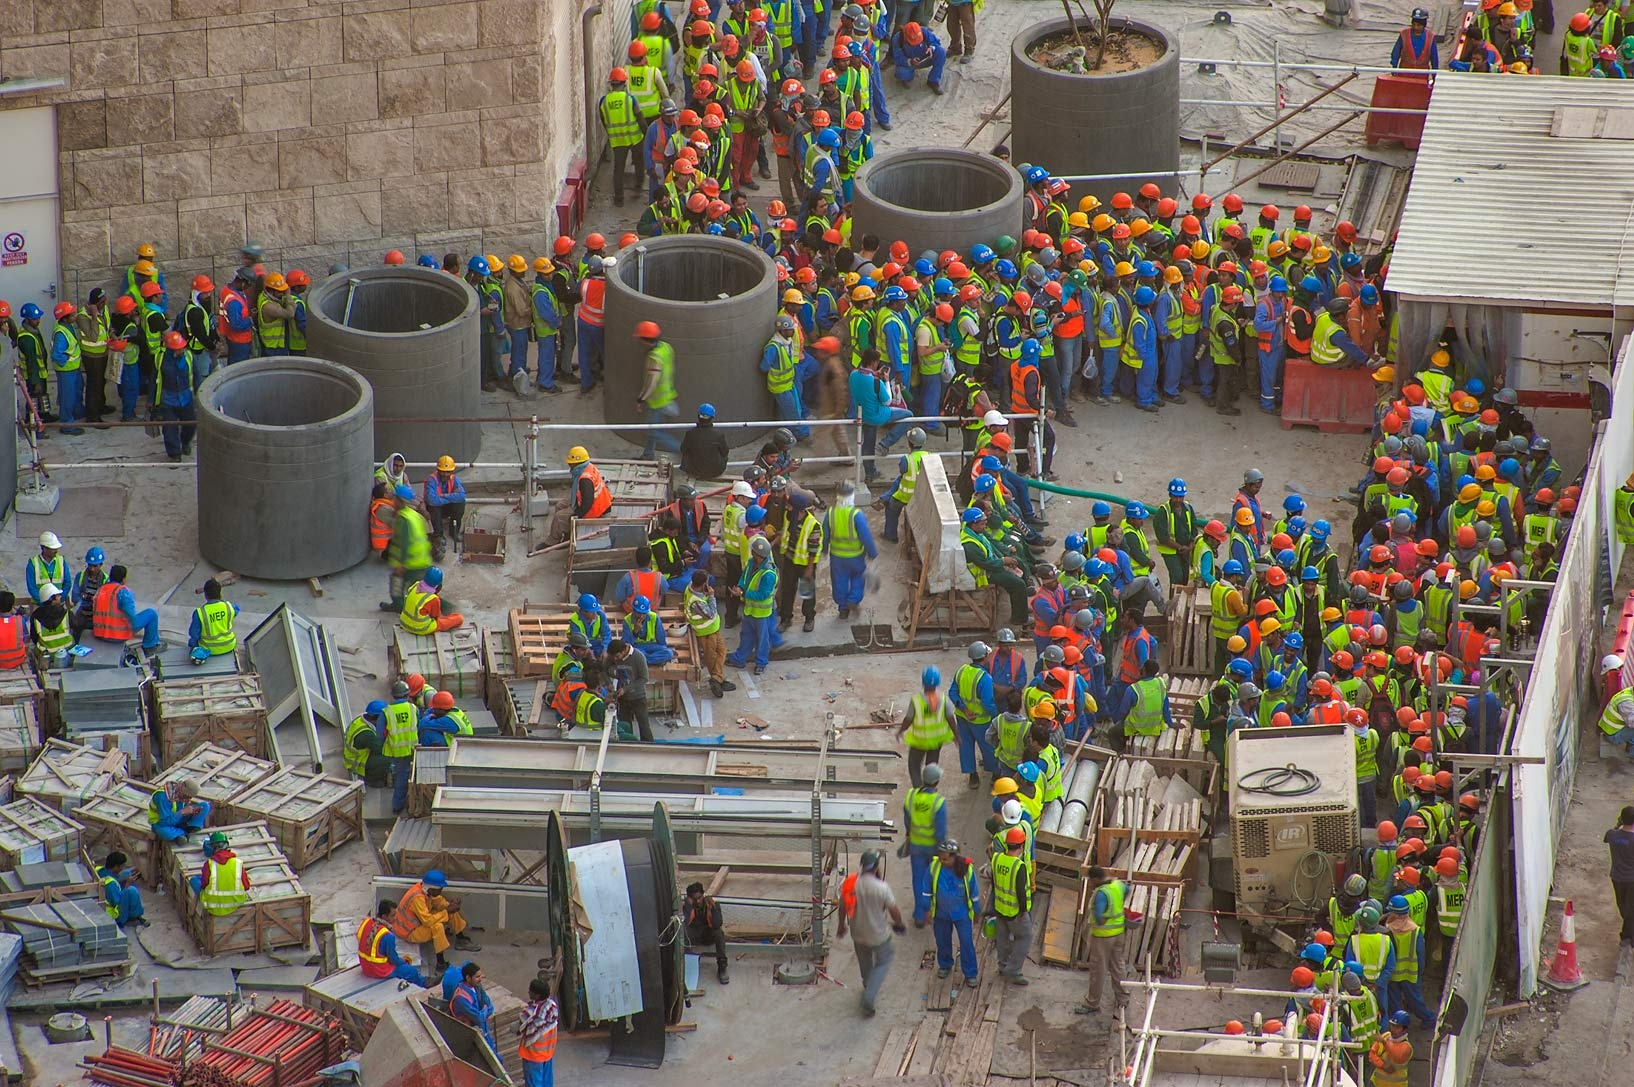blue: (420, 867, 448, 897), (856, 848, 883, 878), (970, 243, 996, 272), (1302, 941, 1327, 971), (419, 564, 444, 592), (1133, 257, 1158, 285), (230, 266, 256, 292), (935, 838, 960, 866), (1281, 631, 1305, 659), (82, 543, 104, 574), (966, 641, 991, 666), (1132, 285, 1157, 311), (1387, 1009, 1411, 1036), (1282, 493, 1306, 519), (466, 254, 489, 281), (962, 505, 985, 533), (1222, 554, 1245, 582), (883, 285, 907, 311), (772, 427, 796, 453), (1226, 658, 1252, 682), (1338, 251, 1363, 275), (1128, 217, 1152, 243), (389, 484, 412, 511), (674, 482, 698, 508), (363, 698, 386, 724), (567, 631, 590, 658), (748, 536, 772, 563), (1125, 500, 1148, 527), (1066, 582, 1089, 609), (1340, 873, 1363, 900), (1239, 681, 1262, 707), (1394, 506, 1417, 533), (1530, 436, 1553, 462), (1037, 563, 1059, 591), (994, 258, 1018, 283), (239, 240, 263, 264), (742, 503, 767, 528), (1263, 668, 1287, 693), (913, 258, 936, 284), (933, 277, 956, 302), (576, 592, 599, 618), (1308, 519, 1331, 545), (1494, 387, 1518, 412), (920, 665, 941, 692), (921, 762, 943, 789), (1166, 477, 1188, 503), (1019, 336, 1042, 360), (1017, 759, 1040, 784), (1298, 275, 1321, 300), (1266, 277, 1289, 301), (1146, 229, 1169, 254), (656, 97, 678, 123), (905, 426, 927, 451), (630, 594, 651, 620), (973, 472, 995, 497), (1328, 294, 1349, 320), (816, 129, 839, 152), (1023, 264, 1046, 288), (1061, 550, 1084, 573), (1340, 962, 1363, 985), (1283, 514, 1306, 537), (1242, 469, 1265, 493), (774, 314, 796, 338), (389, 678, 411, 702), (1041, 644, 1063, 668), (1083, 557, 1105, 581), (1416, 627, 1437, 651), (1357, 281, 1378, 307), (996, 627, 1015, 654), (1027, 166, 1049, 189), (1040, 246, 1061, 269), (1410, 7, 1430, 32), (1514, 44, 1535, 68), (1389, 895, 1410, 920), (1276, 547, 1297, 571), (1486, 537, 1507, 562), (1473, 519, 1493, 543), (1175, 258, 1196, 283), (1300, 564, 1320, 590), (980, 454, 1002, 476), (1064, 533, 1086, 554), (1410, 444, 1431, 466), (839, 5, 862, 25), (695, 402, 716, 425), (767, 476, 787, 499), (1349, 584, 1370, 607), (835, 479, 854, 503), (801, 95, 821, 116), (585, 255, 605, 277), (745, 466, 765, 488), (1498, 459, 1519, 480), (1494, 442, 1515, 463), (1074, 609, 1093, 632), (852, 15, 870, 39), (1510, 434, 1528, 459), (1091, 501, 1111, 522), (1410, 417, 1430, 438), (1464, 377, 1485, 398), (1404, 433, 1425, 453), (1457, 474, 1478, 494), (1395, 579, 1413, 601), (846, 42, 862, 66), (1384, 434, 1401, 455), (725, 1, 744, 13)
none: (522, 974, 550, 1006), (374, 897, 399, 924), (688, 567, 712, 594), (102, 849, 126, 876), (459, 961, 483, 988), (175, 776, 200, 801), (1531, 540, 1555, 565), (1002, 692, 1026, 716), (1027, 725, 1051, 751), (784, 490, 805, 517), (683, 881, 705, 907), (805, 194, 829, 218), (106, 563, 129, 587), (201, 577, 224, 602), (579, 668, 603, 692), (607, 637, 628, 662), (1121, 605, 1143, 631), (795, 231, 818, 254), (970, 362, 994, 385), (85, 286, 107, 311), (371, 479, 393, 503), (1368, 522, 1390, 546), (1209, 683, 1231, 707), (1470, 610, 1492, 634), (1252, 556, 1273, 581), (650, 184, 672, 207), (1366, 502, 1389, 524), (386, 451, 406, 476), (1086, 863, 1106, 887), (442, 250, 461, 275), (634, 543, 654, 569), (660, 516, 682, 537), (970, 497, 992, 519), (1098, 273, 1120, 295), (728, 190, 748, 214), (860, 347, 881, 370), (1235, 237, 1256, 260), (1, 590, 18, 618), (861, 233, 881, 257), (1138, 659, 1158, 681), (1104, 523, 1123, 546), (1617, 804, 1634, 830), (1463, 25, 1484, 46), (835, 247, 854, 269), (821, 264, 839, 288), (1468, 46, 1487, 67), (1461, 429, 1479, 451), (761, 443, 778, 466), (1402, 749, 1422, 768), (994, 146, 1010, 164)
red: (634, 320, 662, 348), (814, 332, 841, 362), (1002, 826, 1029, 855), (1302, 1012, 1327, 1041), (1202, 519, 1226, 550), (927, 300, 953, 326), (987, 431, 1014, 457), (638, 8, 664, 36), (1289, 964, 1315, 992), (1393, 644, 1418, 672), (190, 273, 213, 303), (1004, 291, 1031, 317), (1394, 864, 1419, 890), (958, 281, 983, 309), (285, 268, 311, 294), (1567, 10, 1592, 36), (52, 298, 76, 325), (429, 689, 454, 716), (1043, 665, 1067, 692), (1434, 856, 1461, 881), (1413, 773, 1437, 799), (1414, 537, 1439, 564), (1220, 193, 1245, 220), (1135, 182, 1162, 206), (819, 227, 842, 255), (1256, 596, 1279, 624), (1370, 543, 1393, 571), (1334, 220, 1357, 247), (1190, 190, 1213, 218), (1264, 564, 1285, 594), (1040, 280, 1064, 306), (163, 331, 187, 357), (677, 108, 700, 135), (1402, 812, 1425, 838), (1422, 665, 1445, 692), (1215, 260, 1239, 286), (1110, 192, 1133, 218), (903, 19, 924, 47), (685, 192, 707, 220), (688, 19, 713, 42), (706, 199, 729, 224), (887, 239, 910, 264), (1345, 706, 1368, 732), (1330, 650, 1353, 676), (1453, 524, 1476, 550), (1219, 285, 1242, 311), (1222, 222, 1245, 247), (1155, 197, 1178, 222), (1109, 223, 1132, 249), (688, 130, 710, 156), (796, 267, 818, 294), (1376, 819, 1397, 846), (1268, 533, 1294, 554), (1248, 258, 1268, 288), (691, 80, 714, 104), (583, 232, 607, 256), (1094, 547, 1117, 571), (1457, 793, 1480, 818), (1363, 651, 1388, 675), (947, 261, 969, 286), (1395, 705, 1417, 730), (721, 33, 741, 59), (765, 199, 786, 226), (882, 261, 905, 284), (1030, 233, 1053, 256), (140, 281, 163, 305), (1310, 679, 1333, 702), (1435, 560, 1458, 584), (1387, 466, 1410, 489), (1402, 383, 1425, 406), (780, 79, 802, 103), (605, 67, 630, 89), (898, 274, 920, 298), (1373, 455, 1395, 479), (1379, 411, 1401, 436), (1366, 624, 1388, 648), (1533, 486, 1555, 511), (1179, 214, 1201, 238), (1048, 176, 1069, 201), (1061, 644, 1082, 670), (1311, 992, 1332, 1018), (1433, 768, 1453, 793), (1448, 694, 1469, 719), (1393, 402, 1413, 427), (1292, 203, 1313, 228), (405, 672, 425, 699), (1061, 238, 1083, 261), (115, 296, 137, 319), (1313, 931, 1334, 954), (1478, 408, 1499, 431), (1257, 204, 1279, 227), (844, 110, 865, 135), (810, 109, 831, 133), (698, 177, 718, 201), (938, 250, 962, 271), (1289, 233, 1310, 257), (818, 69, 837, 95), (831, 44, 849, 70), (698, 61, 719, 82), (553, 237, 575, 258), (1556, 496, 1578, 518), (1402, 766, 1423, 789), (1413, 735, 1434, 758), (1349, 625, 1370, 648), (1350, 569, 1373, 590), (776, 218, 796, 243), (1596, 45, 1616, 69), (1407, 718, 1427, 742), (1048, 624, 1069, 645), (1395, 844, 1417, 865), (1172, 243, 1192, 264), (747, 7, 765, 32), (702, 114, 721, 138), (677, 146, 698, 166), (627, 41, 647, 63), (736, 59, 755, 82), (617, 232, 638, 251), (1385, 570, 1404, 592), (774, 262, 788, 289), (690, 2, 710, 21), (1480, 1, 1501, 18), (854, 1, 872, 15), (1, 298, 10, 326)
white: (35, 580, 62, 607), (38, 529, 61, 559), (1000, 798, 1023, 826), (731, 480, 755, 507), (983, 409, 1006, 433)
yellow: (130, 258, 156, 284), (994, 775, 1019, 802), (1160, 264, 1185, 291), (1372, 365, 1396, 393), (1031, 701, 1057, 727), (433, 454, 457, 480), (565, 443, 590, 469), (1234, 506, 1256, 534), (1259, 618, 1281, 645), (781, 288, 804, 313), (852, 284, 875, 309), (533, 255, 553, 283), (1456, 577, 1479, 602), (1488, 570, 1511, 594), (1454, 395, 1479, 419), (1067, 211, 1089, 237), (1188, 238, 1209, 263), (1114, 261, 1135, 286), (1461, 483, 1482, 507), (1078, 258, 1098, 285), (1496, 2, 1518, 25), (1226, 634, 1248, 658), (506, 254, 526, 278), (1475, 463, 1496, 488), (1311, 246, 1332, 271), (485, 252, 503, 279), (1078, 195, 1100, 217), (1093, 214, 1114, 237), (1266, 240, 1287, 263), (135, 244, 156, 264), (1429, 349, 1450, 371), (1475, 500, 1496, 520), (843, 271, 861, 292), (1322, 605, 1340, 626), (1509, 59, 1527, 78), (870, 268, 886, 288)
